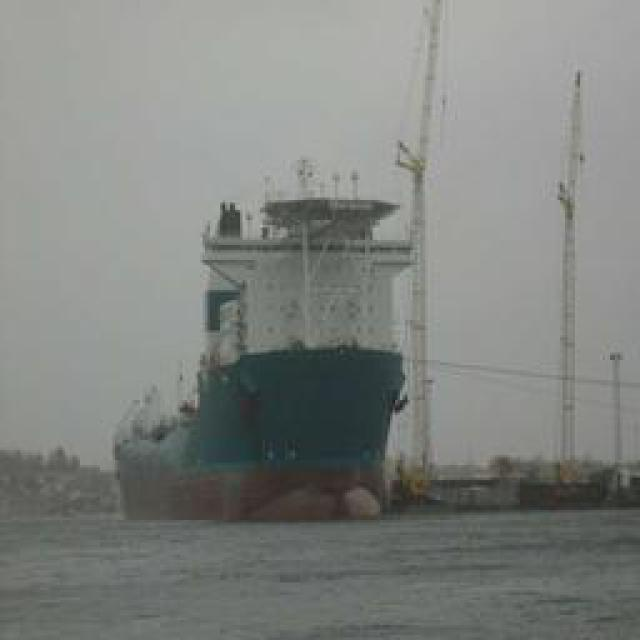Ship: (103, 142, 420, 528)
